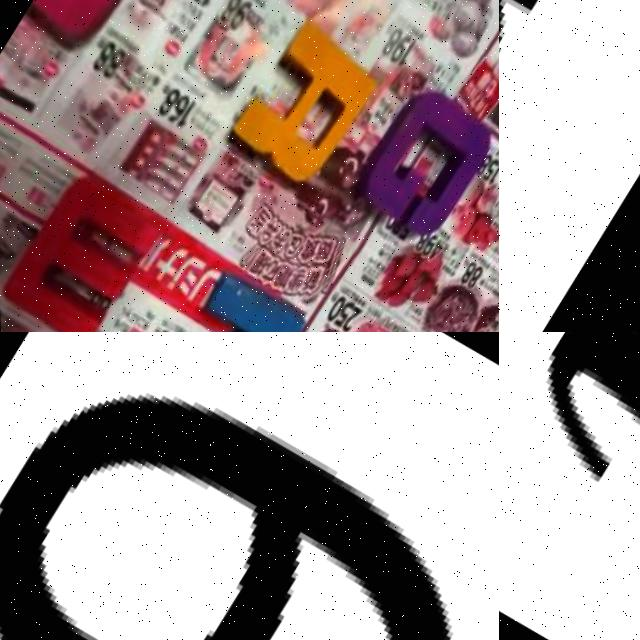6: (0, 332, 499, 640)
D: (499, 332, 640, 640)
G: (340, 87, 499, 266)
M: (499, 0, 626, 332)
N: (138, 265, 312, 332)
R: (216, 19, 390, 213)
W: (0, 162, 171, 332)
